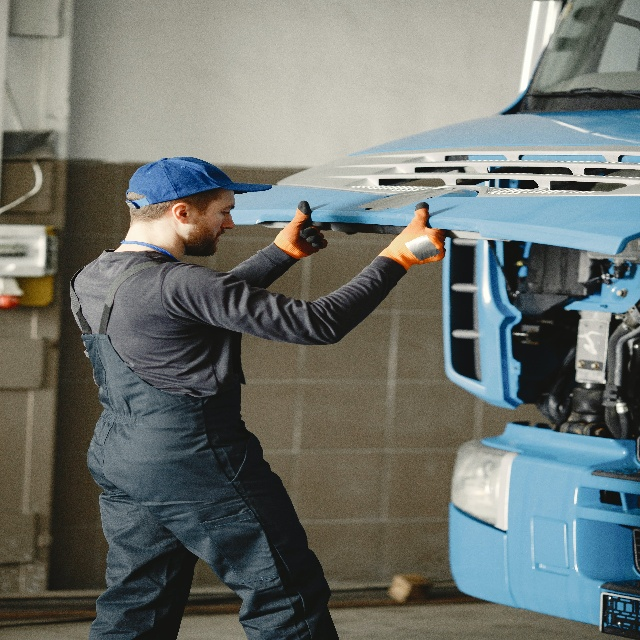Guantes: (381, 202, 447, 270), (275, 200, 327, 262)
